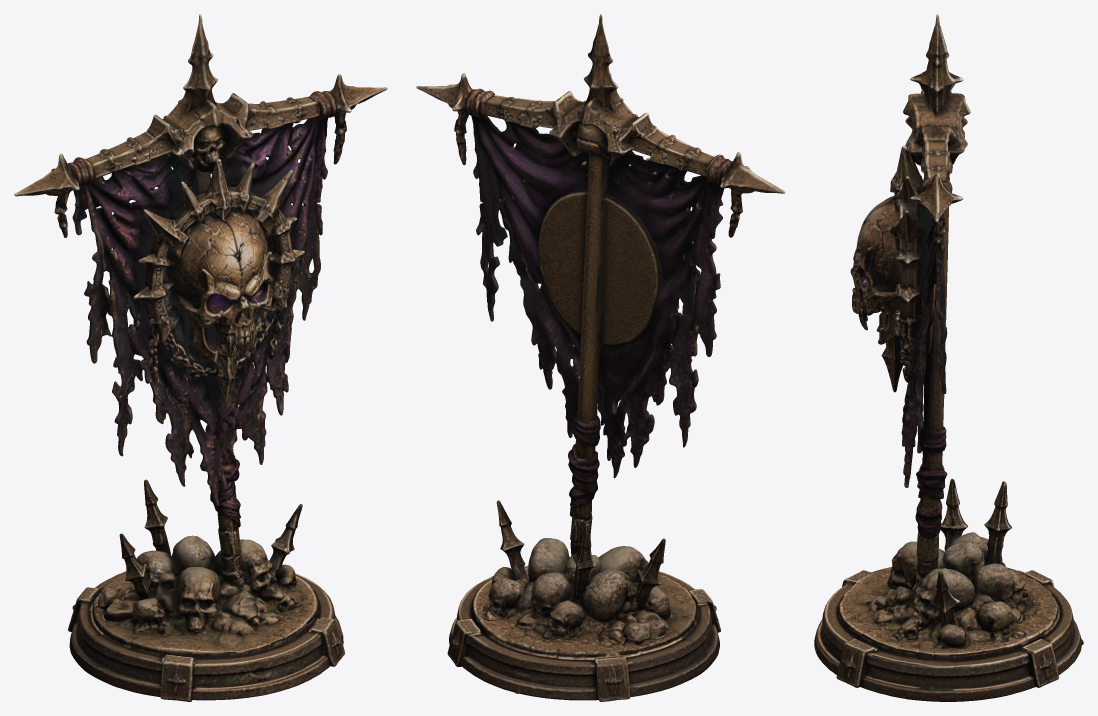
File: Армия без генерала нежить .glb
The picture shows the model from 3 angles, left to right: view 1: azimuth 30°, elevation 25°; view 2: azimuth 150°, elevation 25°; view 3: azimuth 270°, elevation 25°; orthographic projection.
Parts seen in each view (by area): view 1: tripo_node_404933a3-8bd6-4165-8870-2bc2d9a43869; view 2: tripo_node_404933a3-8bd6-4165-8870-2bc2d9a43869; view 3: tripo_node_404933a3-8bd6-4165-8870-2bc2d9a43869.
Part boxes in pixels (x1,y1,x2,y2): tripo_node_404933a3-8bd6-4165-8870-2bc2d9a43869: [14, 14, 387, 701]; tripo_node_404933a3-8bd6-4165-8870-2bc2d9a43869: [416, 14, 785, 701]; tripo_node_404933a3-8bd6-4165-8870-2bc2d9a43869: [814, 14, 1083, 701].
Size of the model in its own units: 0.6129 by 1 by 0.3904.
1 material, 1 textured.
